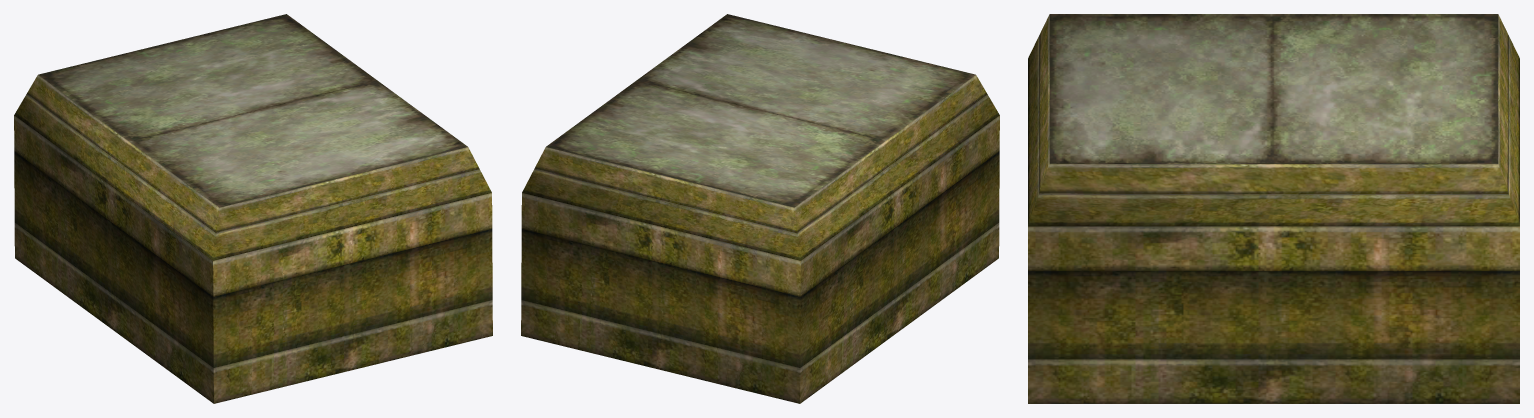
The model's file is OVERHILL_A_01_OBJECT270.fbx.
3 views of the same model, side by side, from view 1: azimuth 30°, elevation 25°; view 2: azimuth 150°, elevation 25°; view 3: azimuth 270°, elevation 25° (orthographic). The views are drawn at different scales.
Parts seen in each view (by area): view 1: OVERHILL_A_01_OBJECT270; view 2: OVERHILL_A_01_OBJECT270; view 3: OVERHILL_A_01_OBJECT270.
Part boxes in pixels (x1,y1,x2,y2): OVERHILL_A_01_OBJECT270: (14, 14, 492, 403); OVERHILL_A_01_OBJECT270: (521, 14, 999, 403); OVERHILL_A_01_OBJECT270: (1028, 14, 1519, 403).
Bounding box in the file's own units: 16847 × 10731 × 20758.
Materials: 3 (3 with a texture image).
